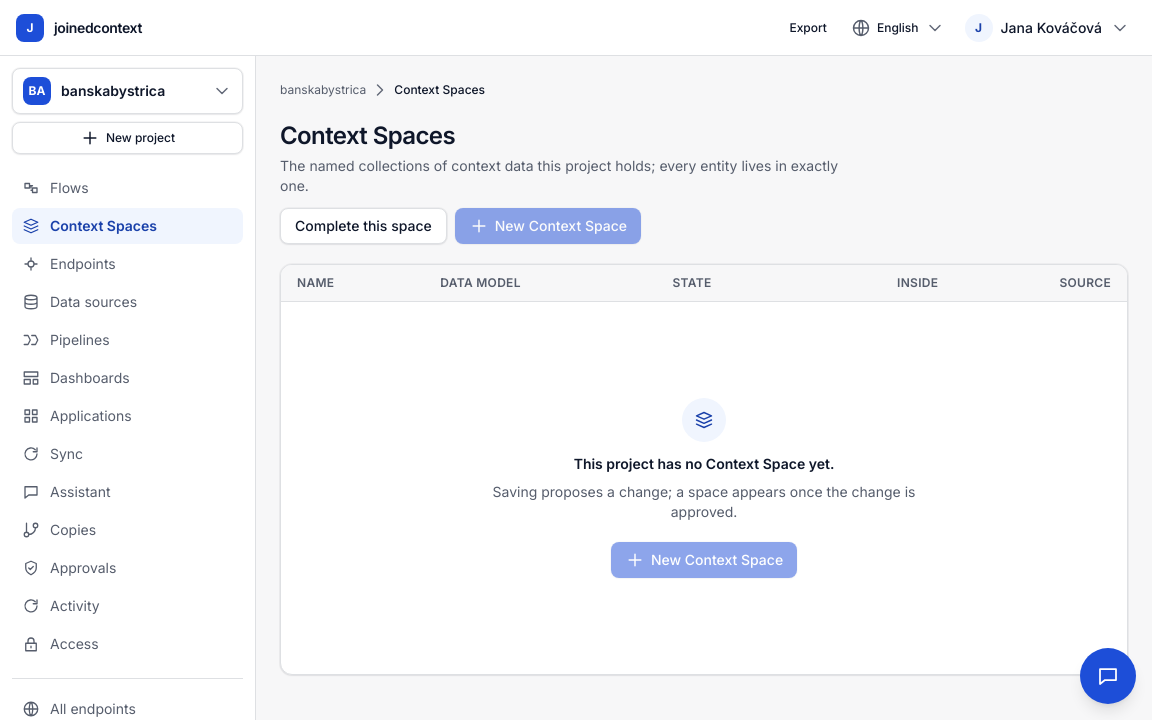
Test case: the New project control in the sidebar › checks the name while it is typed and proposes the project as one change
Click the button "New project": (128,138) [12,122,243,154]
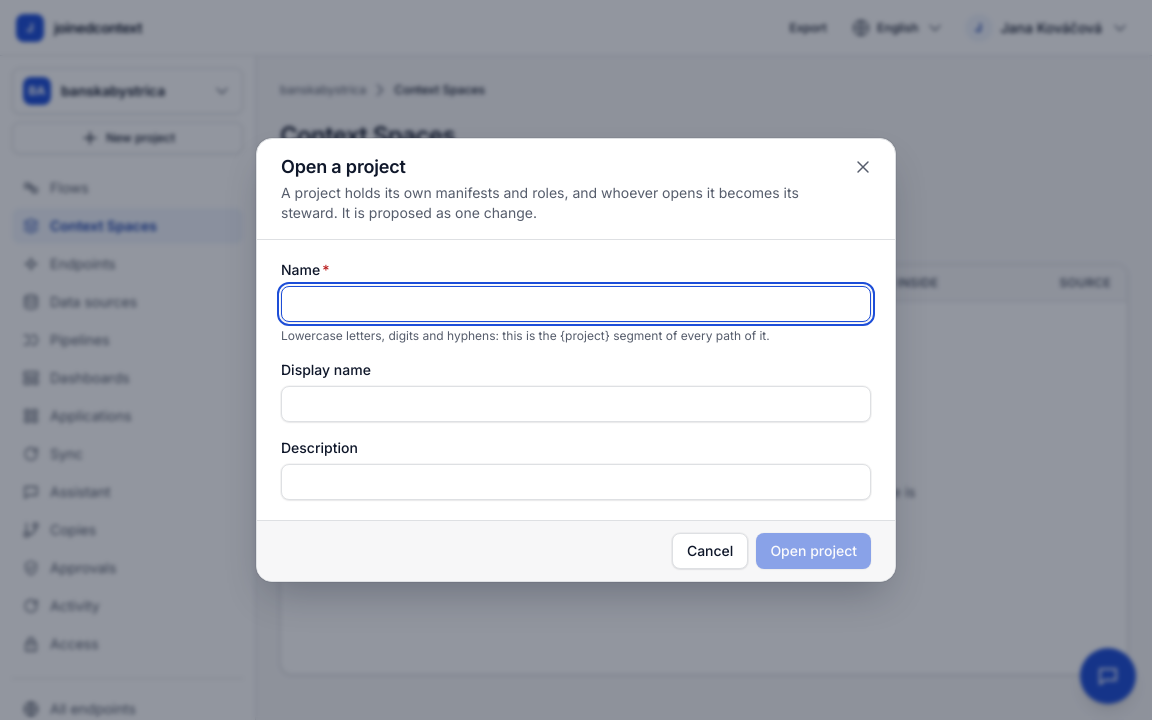
Result: the button "Open project" is disabled at [756,533,871,569]
In the field labelled "Name*": (576,304) [281,286,871,322], type "Doprava Mesta"
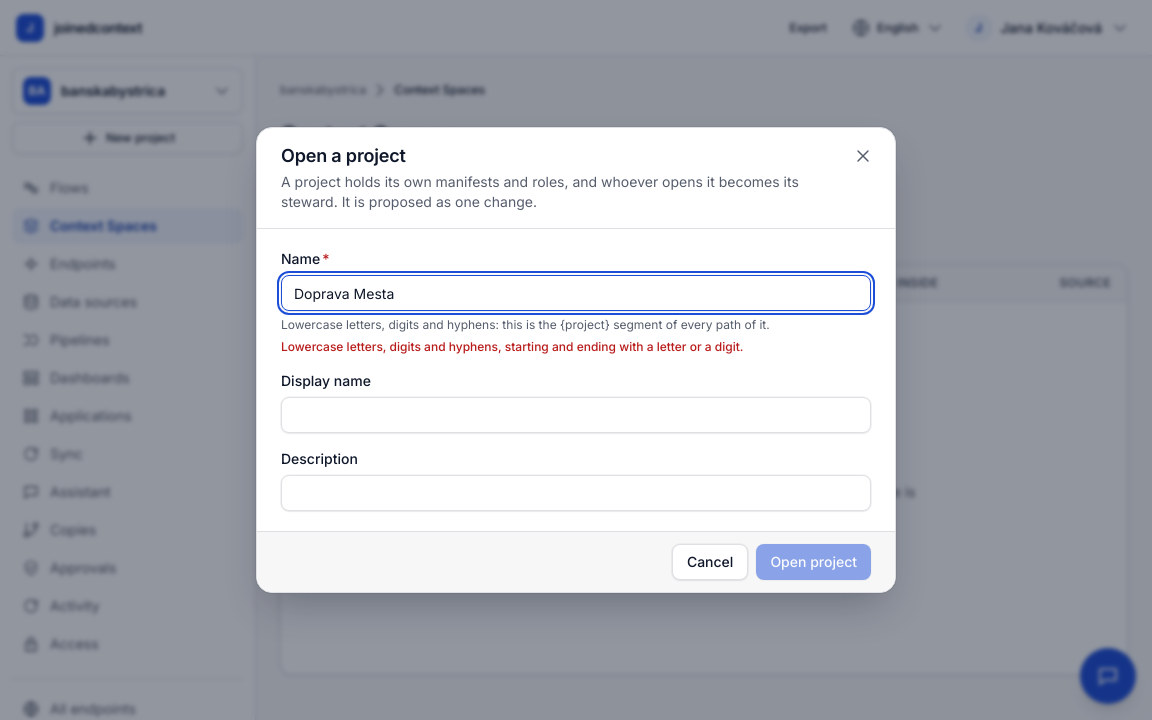
Result: the button "Open project" is disabled at [756,544,871,580]
Result: the text "Lowercase letters, digits and hyphens, starting and ending with a letter or a digit." is shown at [281,339,743,354]
Clear the field labelled "Name*": (576,293) [281,275,871,311]
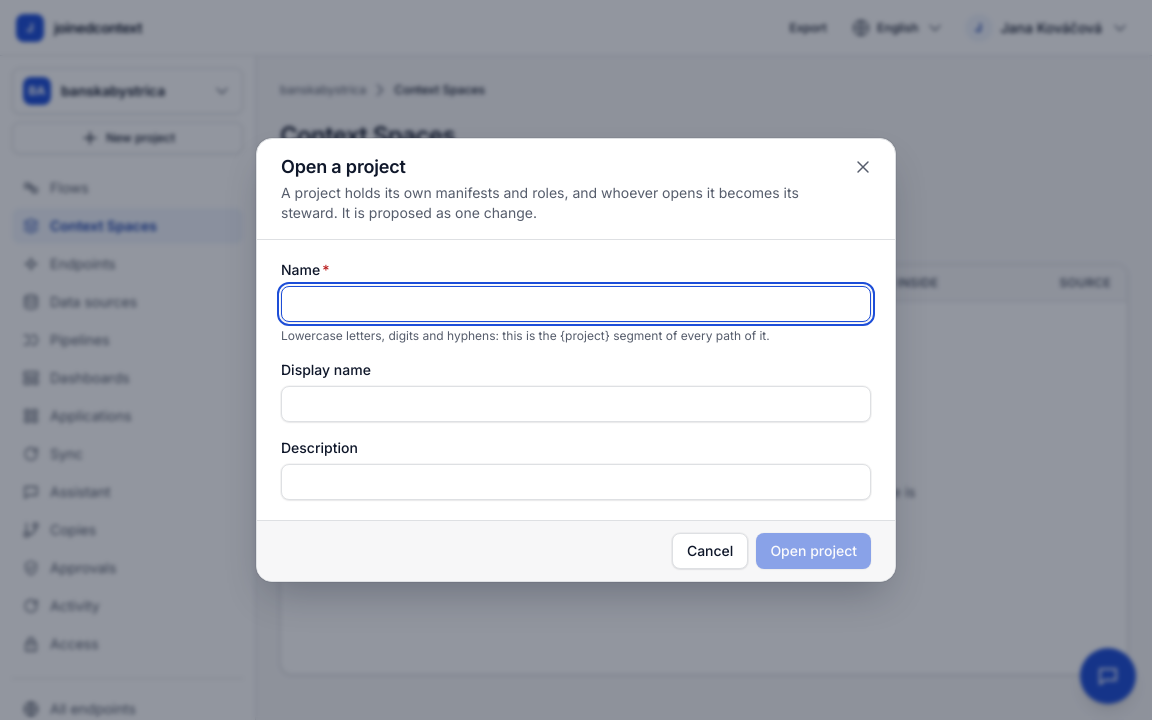
In the field labelled "Name*": (576,304) [281,286,871,322], type "doprava"
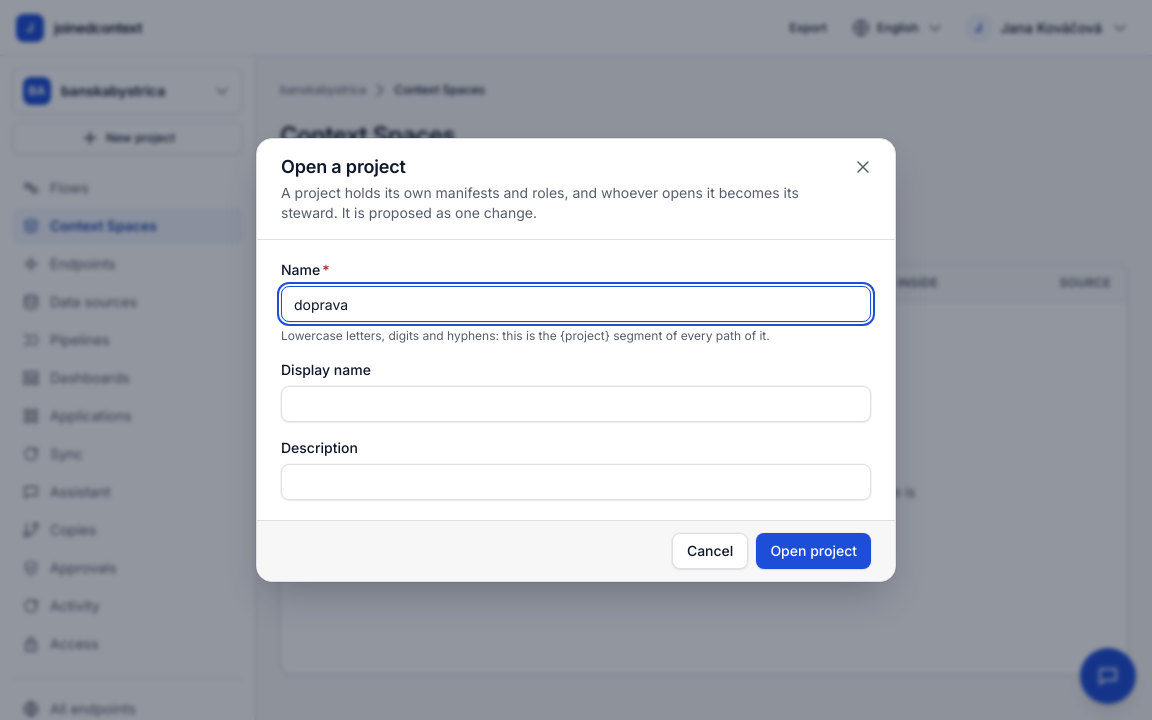
Result: the button "Open project" is enabled
Click the button "Open project": (814,551) [756,533,871,569]
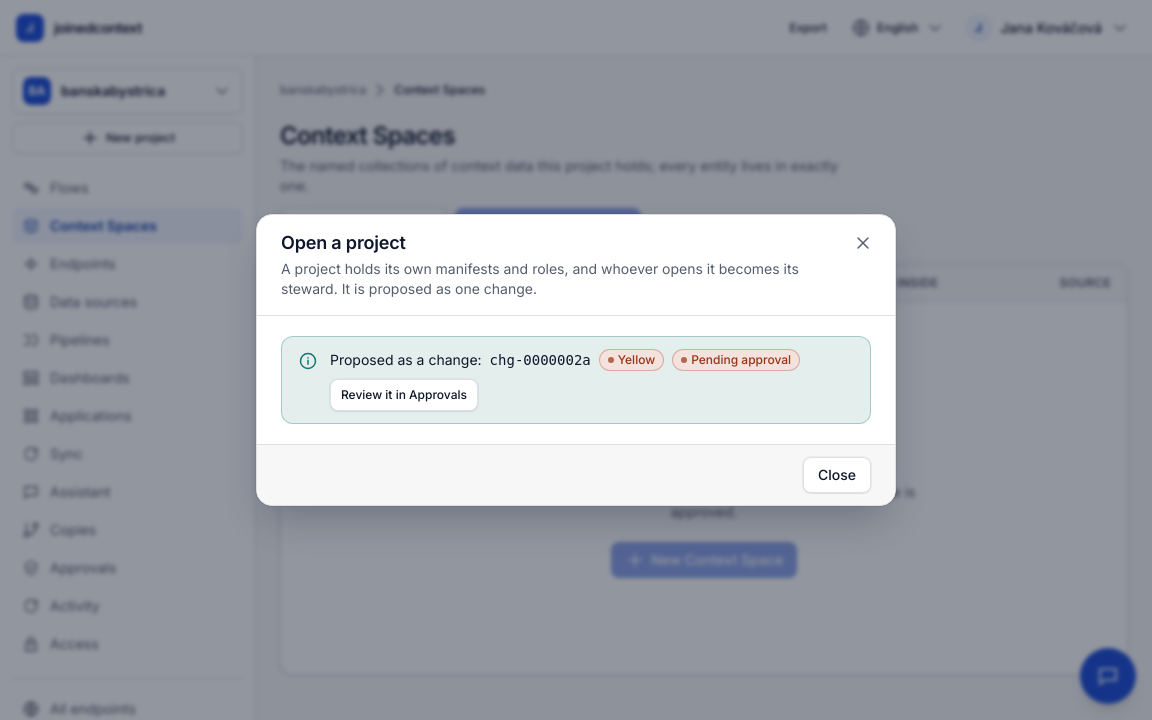
Result: the text "chg-0000002a" is shown at [490,350,591,370]
